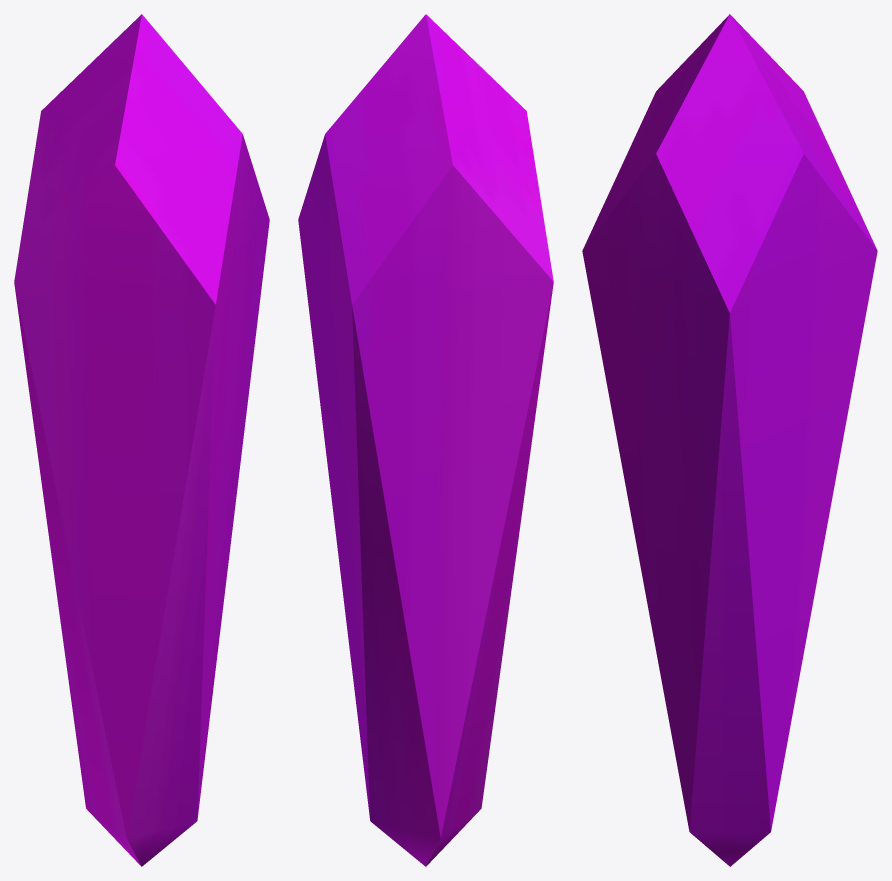
Rendered from crystalCrash.obj.
The picture shows the model from 3 angles, left to right: view 1: azimuth 30°, elevation 25°; view 2: azimuth 150°, elevation 25°; view 3: azimuth 270°, elevation 25°; orthographic projection.
Visible parts, largest first — view 1: Plane002_Material.002; view 2: Plane002_Material.002; view 3: Plane002_Material.002.
Part boxes in pixels (x1,y1,x2,y2): Plane002_Material.002: [14, 14, 269, 866]; Plane002_Material.002: [298, 14, 553, 866]; Plane002_Material.002: [582, 14, 877, 866].
Size of the model in its own units: 2.61 by 8.33 by 2.61.
